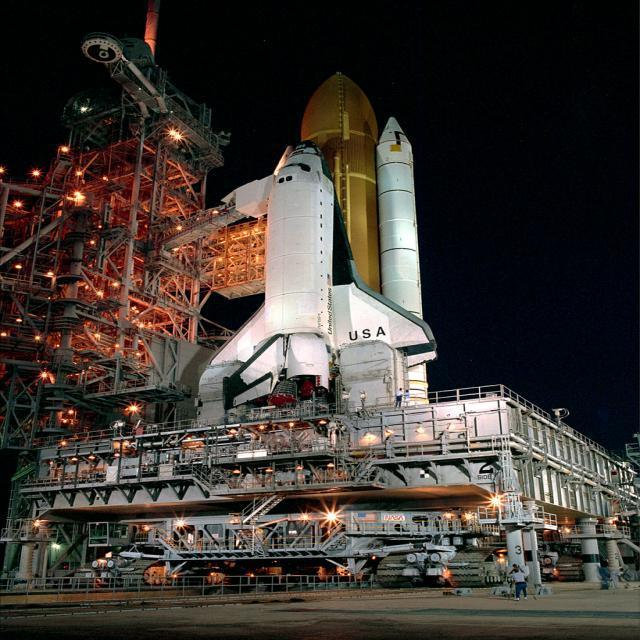missile: (372, 102, 422, 316)
